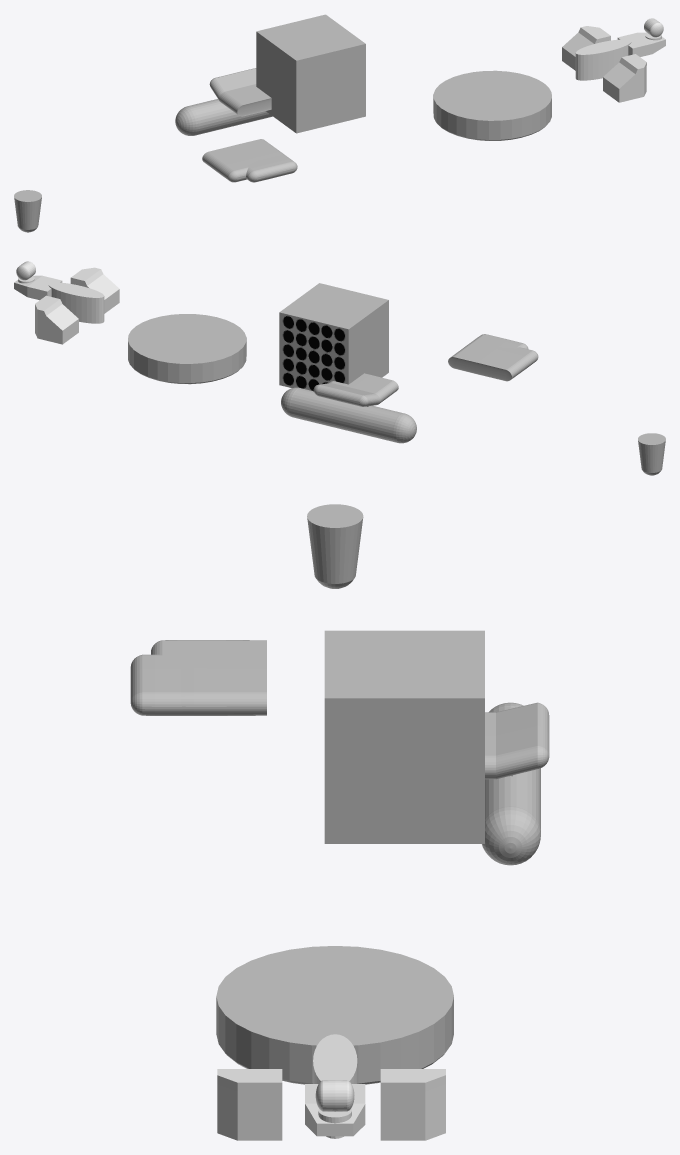
3 renders of one model, top to bottom at view 1: azimuth 30°, elevation 25°; view 2: azimuth 150°, elevation 25°; view 3: azimuth 270°, elevation 25°, orthographic. The views are drawn at different scales.
Visible parts, largest first — view 1: 立方体.003, 円柱, 球.001, 円柱.001, 球, 立方体.001, 円柱.002, 円柱.006, 球.004, 立方体.002, 立方体; view 2: 立方体.003, 円柱, 円柱.001, 球, 球.001, 立方体.002, 円柱.002, 立方体.001, 円柱.006, 立方体, 球.004; view 3: 立方体.003, 円柱, 球, 円柱.001, 立方体.002, 立方体.001, 球.001, 円柱.006, 球.004, 円柱.002, 立方体, 球.003.
Part boxes in pixels (bbox=[...]): 立方体.003: bbox=[256, 14, 365, 133]; 円柱: bbox=[433, 70, 551, 140]; 球.001: bbox=[209, 68, 271, 116]; 円柱.001: bbox=[175, 99, 272, 135]; 球: bbox=[202, 139, 284, 182]; 立方体.001: bbox=[603, 54, 646, 102]; 円柱.002: bbox=[575, 39, 631, 80]; 円柱.006: bbox=[14, 190, 41, 232]; 球.004: bbox=[246, 154, 297, 182]; 立方体.002: bbox=[562, 26, 610, 70]; 立方体: bbox=[617, 32, 665, 56]; 立方体.003: bbox=[279, 283, 388, 391]; 円柱: bbox=[128, 314, 246, 384]; 円柱.001: bbox=[281, 387, 416, 443]; 球: bbox=[448, 341, 538, 381]; 球.001: bbox=[313, 373, 398, 406]; 立方体.002: bbox=[35, 295, 78, 344]; 円柱.002: bbox=[48, 282, 104, 323]; 立方体.001: bbox=[70, 267, 119, 313]; 円柱.006: bbox=[638, 433, 665, 475]; 立方体: bbox=[14, 275, 62, 300]; 球.004: bbox=[472, 334, 528, 348]; 立方体.003: bbox=[324, 630, 484, 843]; 円柱: bbox=[216, 946, 453, 1084]; 球: bbox=[151, 640, 266, 715]; 円柱.001: bbox=[482, 702, 540, 865]; 立方体.002: bbox=[380, 1069, 445, 1140]; 立方体.001: bbox=[217, 1069, 282, 1140]; 球.001: bbox=[485, 702, 549, 779]; 円柱.006: bbox=[307, 504, 363, 588]; 球.004: bbox=[130, 654, 183, 715]; 円柱.002: bbox=[313, 1034, 357, 1138]; 立方体: bbox=[305, 1084, 365, 1136]; 球.003: bbox=[315, 1080, 354, 1111].
Size of the model in its own units: 10.09 by 1.63 by 2.83.
Materials: 7 (1 with a texture image).
